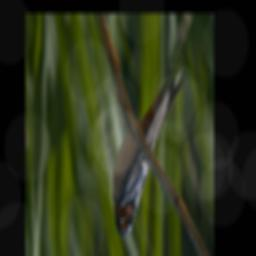Swallow: (113, 31, 187, 238)
